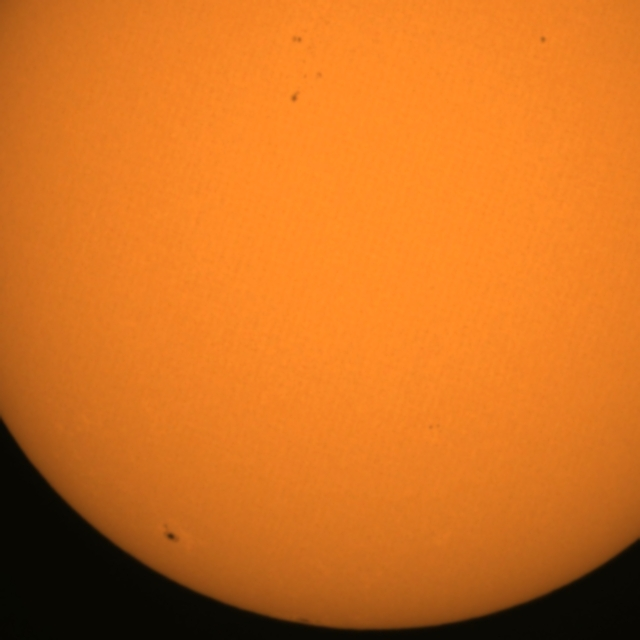sunspot: (290, 69, 324, 101), (161, 521, 181, 545), (298, 68, 324, 85), (288, 90, 302, 105), (426, 422, 443, 432), (290, 34, 304, 46), (538, 34, 548, 46)
